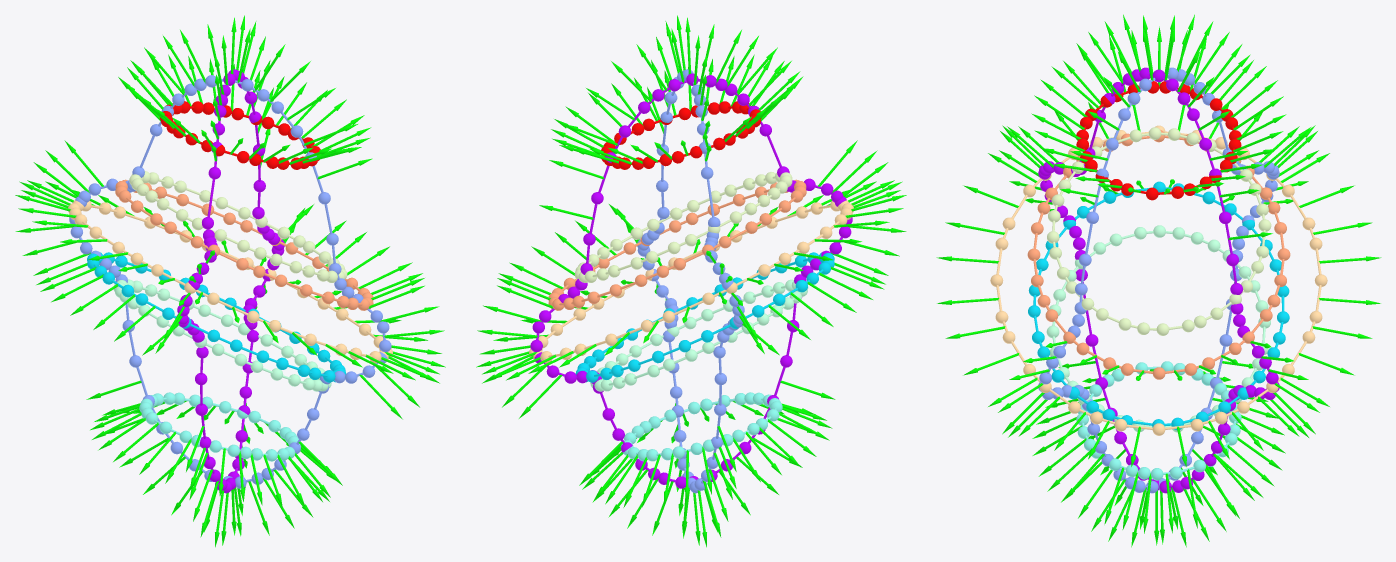
The model's file is flowrep_ellipsetorus.gltf.
3 renders of one model, left to right at view 1: azimuth 30°, elevation 25°; view 2: azimuth 150°, elevation 25°; view 3: azimuth 270°, elevation 25°, orthographic.
Bounding box in the file's own units: 0.6778 × 0.9 × 0.6988.
